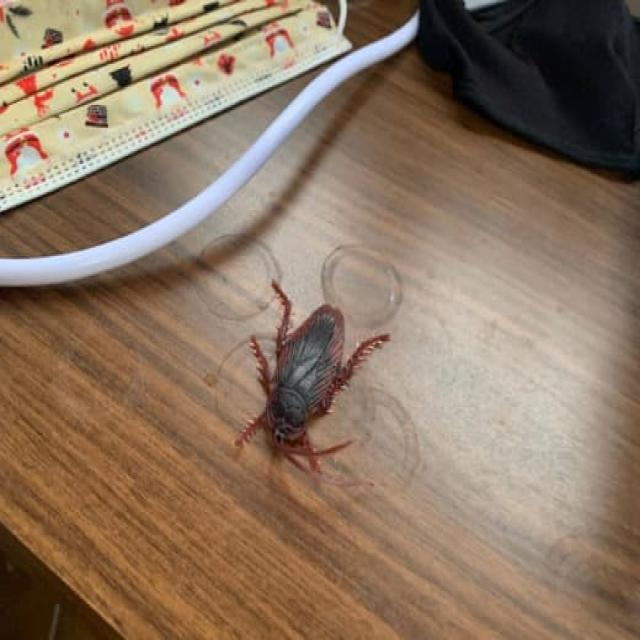Cockroach: (229, 256, 393, 479)
